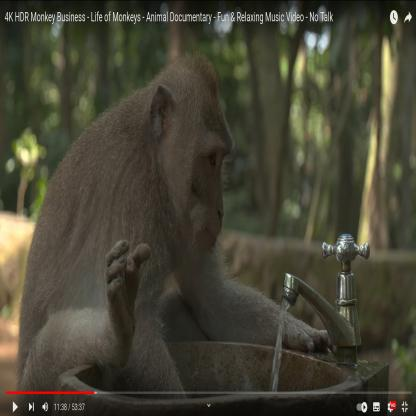monkey: (16, 50, 330, 391)
